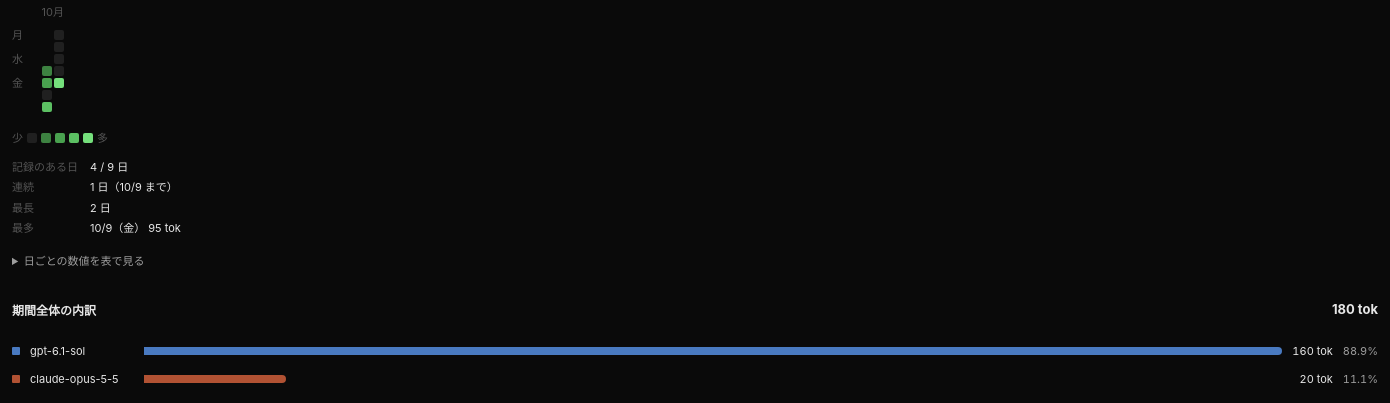
Scenario: daily usage grid interactions › pins with Enter, unpins with Escape or a second activation, and supports Space
Press Enter in the button named "10/1（木） · 15 tok · gpt-6.1-sol 66.7%", box [42,66,52,76]
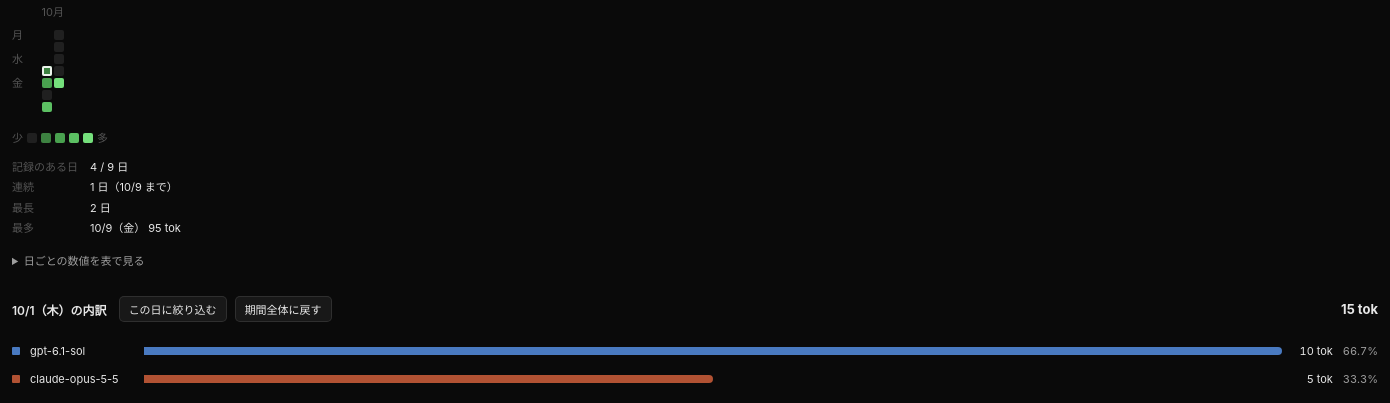
expect the heading "10/1（木）の内訳" is shown: met, box [12,300,107,318]
Press Escape in the button named "10/1（木） · 15 tok · gpt-6.1-sol 66.7%", box [42,66,52,76]
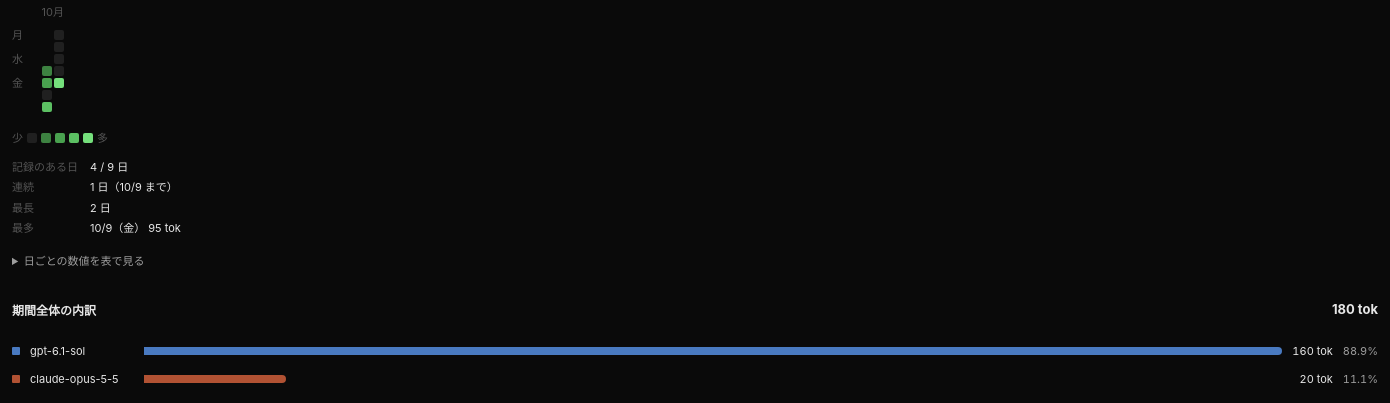
expect the heading "期間全体の内訳" is shown: met, box [12,300,96,318]
Press Space in the button named "10/2（金） · 25 tok · gpt-6.1-sol 80.0%", box [42,78,52,88]
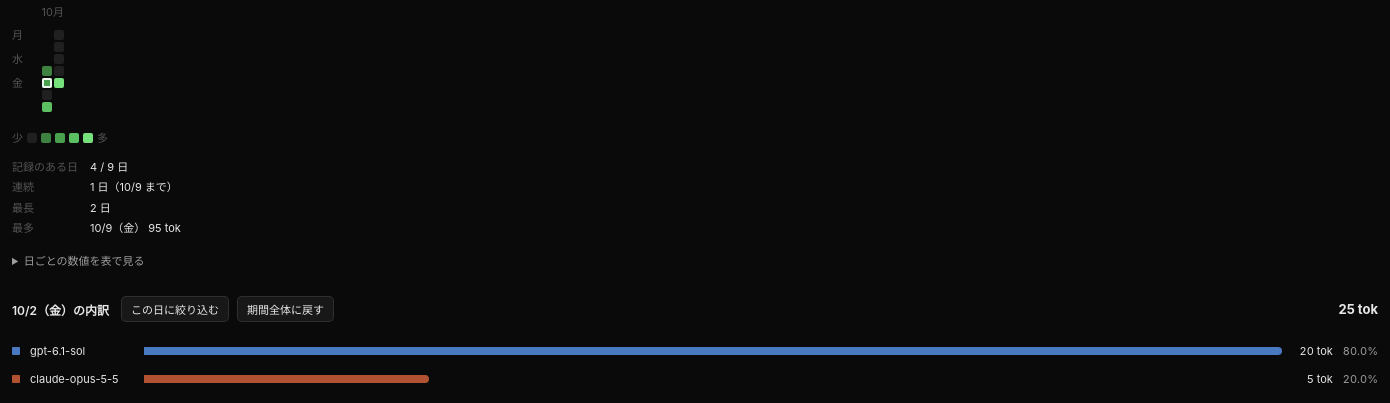
Click the button named "10/2（金） · 25 tok · gpt-6.1-sol 80.0%" at (47, 83), box [42,78,52,88]
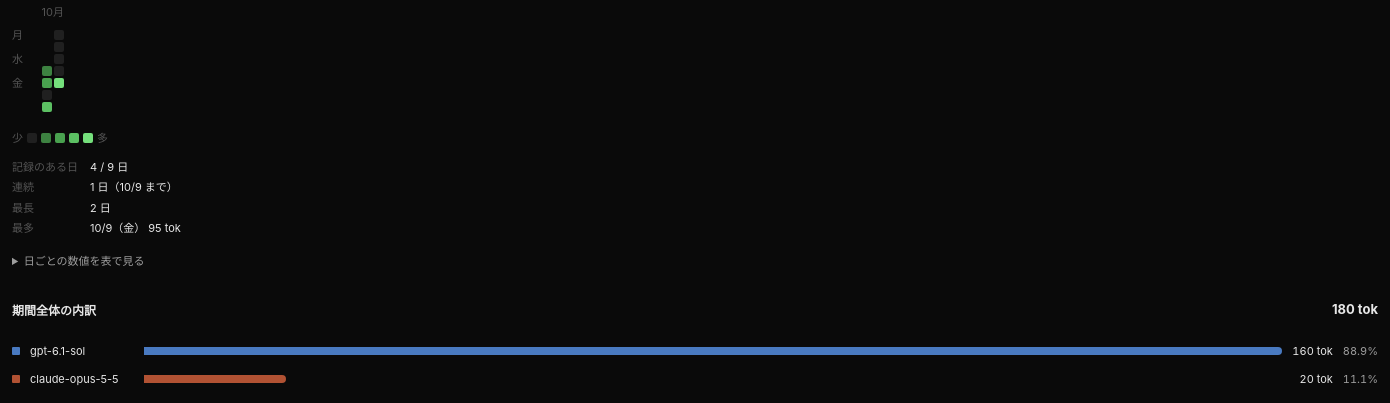
expect the heading "期間全体の内訳" is shown: met, box [12,300,96,318]
